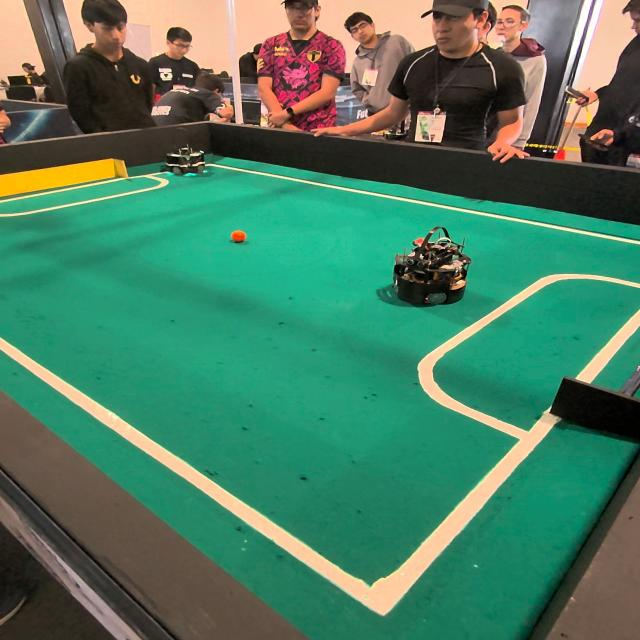Robot: (393, 227, 472, 312), (166, 133, 207, 180)
pelota: (233, 234, 246, 242)
